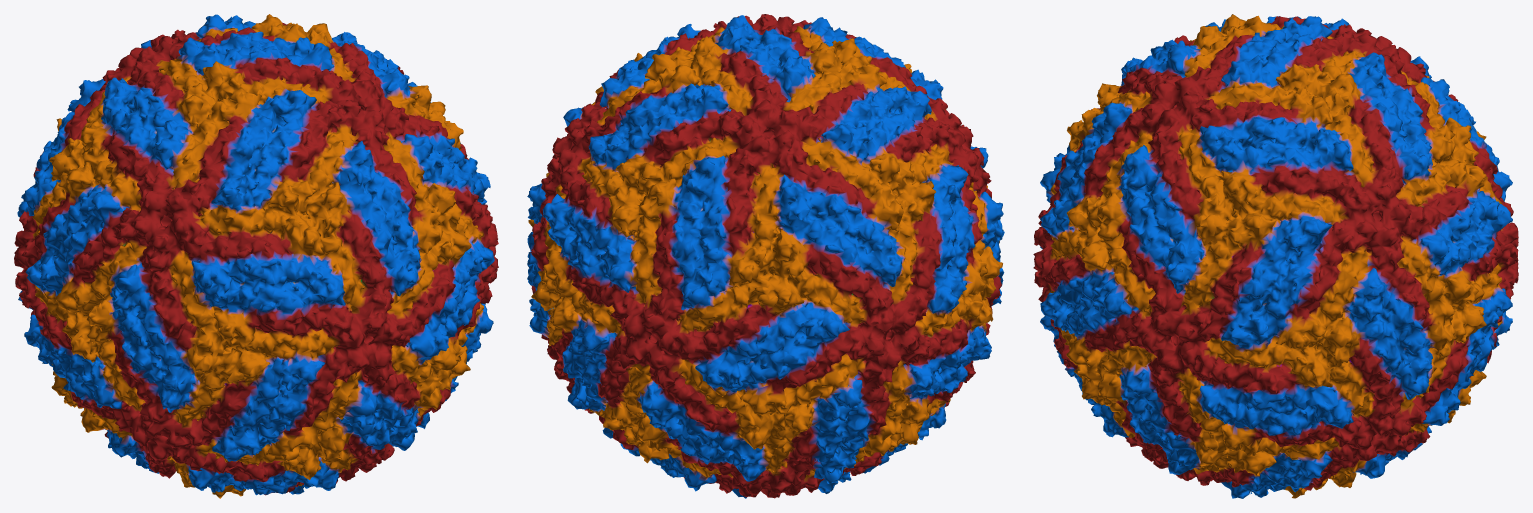
Rendered from zika.glb.
3 renders of one model, left to right at view 1: azimuth 30°, elevation 25°; view 2: azimuth 150°, elevation 25°; view 3: azimuth 270°, elevation 25°, orthographic.
Parts seen in each view (by area): view 1: Vírus Zika; view 2: Vírus Zika; view 3: Vírus Zika.
Boxes of the visible parts, x1=… form: Vírus Zika: x1=14, y1=14, x2=498, y2=498; Vírus Zika: x1=527, y1=14, x2=1004, y2=498; Vírus Zika: x1=1033, y1=14, x2=1518, y2=498.
Bounding box in the file's own units: 13107 × 12900 × 13046.
